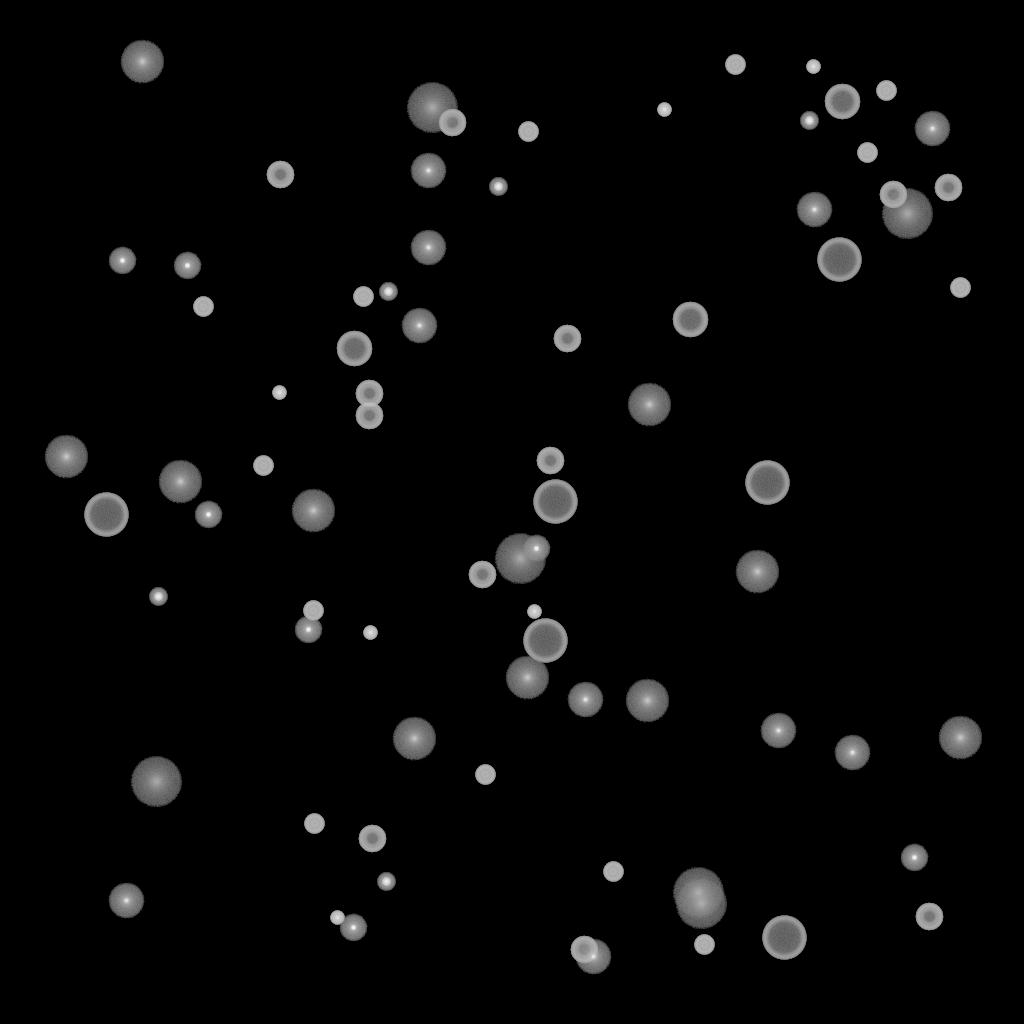depth:-10: (173, 252, 201, 280), (108, 247, 136, 275), (522, 535, 550, 563), (900, 844, 928, 872), (294, 616, 322, 644), (339, 914, 367, 942), (194, 501, 222, 529)
depth:-20: (489, 178, 507, 196), (377, 873, 395, 891), (379, 283, 397, 301), (800, 112, 818, 130), (149, 588, 167, 606)
depth:-30: (527, 605, 541, 619), (806, 60, 820, 74), (363, 626, 377, 640), (272, 386, 286, 400), (330, 911, 344, 925), (657, 103, 671, 117)
depth:-40: (950, 278, 970, 298), (304, 814, 324, 834), (603, 862, 623, 882), (518, 122, 538, 142), (857, 143, 877, 163), (694, 935, 714, 955), (876, 81, 896, 101), (253, 456, 273, 476), (725, 55, 745, 75), (193, 297, 213, 317), (303, 601, 323, 621), (353, 287, 373, 307), (475, 765, 495, 785)
depth:-50: (536, 447, 564, 475), (553, 325, 581, 353), (570, 936, 598, 964), (355, 402, 383, 430), (915, 903, 943, 931), (355, 380, 383, 408), (358, 825, 386, 853), (438, 109, 466, 137), (934, 174, 962, 202), (266, 161, 294, 189), (879, 181, 907, 209), (468, 561, 496, 589)
depth:-60: (824, 84, 860, 120), (672, 302, 708, 338), (336, 331, 372, 367)
depth:-70: (745, 461, 789, 505), (523, 619, 567, 663), (533, 480, 577, 524), (84, 493, 128, 537), (817, 238, 861, 282), (762, 916, 806, 960)
depth:0: (796, 192, 832, 228), (410, 230, 446, 266), (760, 713, 796, 749), (575, 939, 611, 975), (914, 111, 950, 147), (108, 883, 144, 919), (567, 682, 603, 718), (401, 308, 437, 344), (834, 735, 870, 771), (410, 153, 446, 189)
depth:10: (392, 717, 436, 761), (505, 656, 549, 700), (44, 435, 88, 479), (625, 679, 669, 723), (120, 40, 164, 84), (291, 489, 335, 533), (938, 716, 982, 760), (158, 460, 202, 504), (735, 550, 779, 594), (627, 383, 671, 427)
depth:20: (406, 83, 458, 133), (881, 189, 933, 239), (494, 534, 546, 584), (675, 879, 727, 929), (130, 757, 182, 807), (672, 868, 724, 918)
